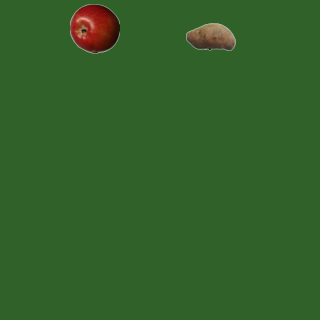Apple Braeburn: (69, 3, 119, 53)
Potato Sweet: (185, 11, 235, 61)
